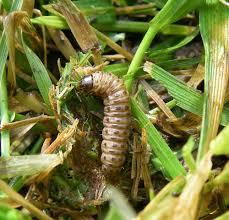fallarmy_worm: (73, 71, 134, 183)
